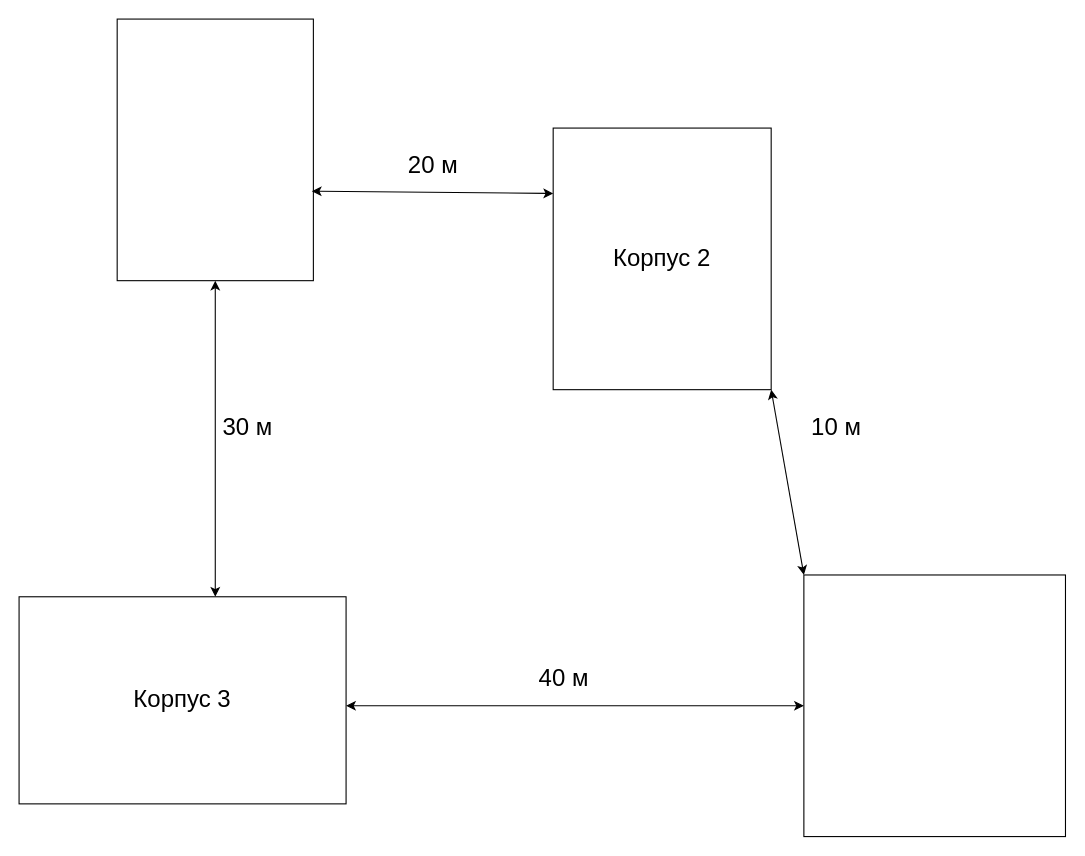
The diagram is 1085 pixels wide and 856 high, and some of its shapes have lost their labels. Each missing label, with the centre of its shape:
"Корпус 1" goes at point 214,149.
"Корпус 4" goes at point 934,705.
